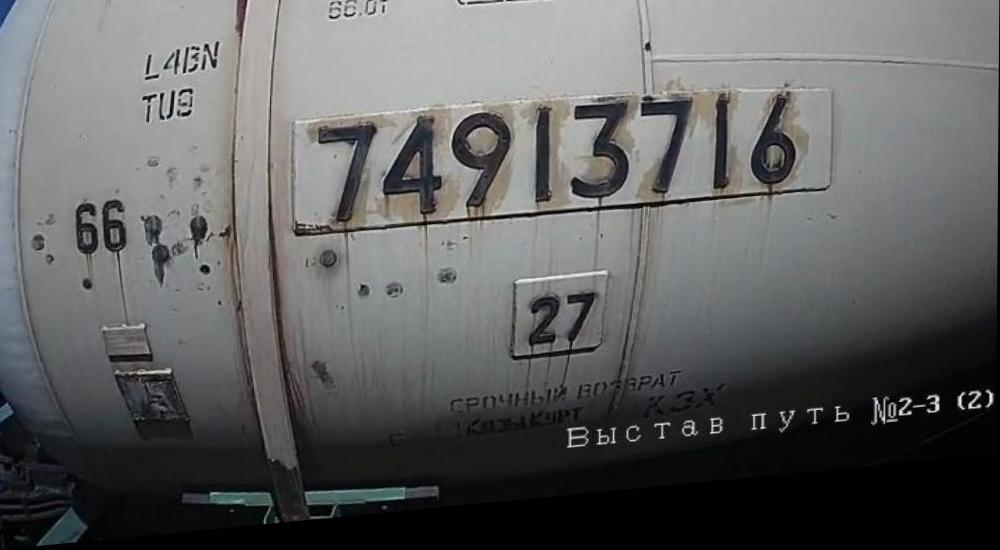Wagon-number: (307, 90, 803, 246)
